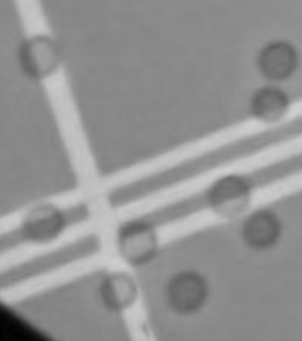cell: (14, 29, 70, 85), (110, 215, 164, 271), (162, 264, 213, 317), (204, 171, 255, 221), (17, 199, 69, 248), (93, 266, 143, 316), (251, 37, 302, 85), (235, 204, 284, 253), (247, 82, 295, 129)
